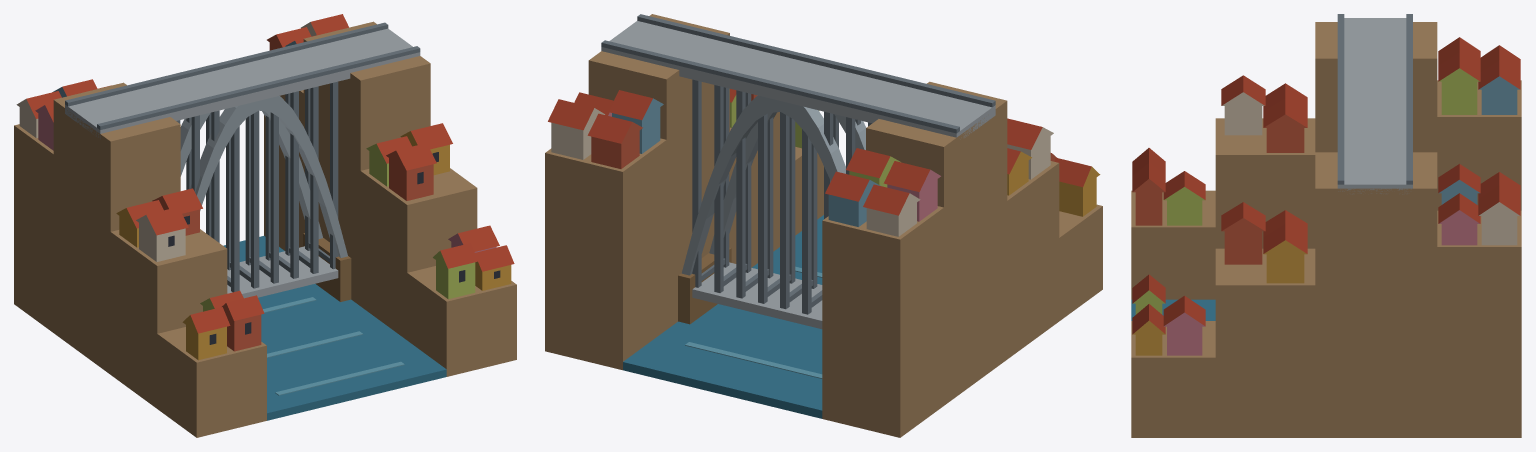
File: pontArche.glb
3 views of the same model, side by side, from view 1: azimuth 30°, elevation 25°; view 2: azimuth 150°, elevation 25°; view 3: azimuth 270°, elevation 25° (orthographic). The views are drawn at different scales.
Parts seen in each view (by area): view 1: pontArche; view 2: pontArche; view 3: pontArche.
Part boxes in pixels (x1,y1,x2,y2): pontArche: (14, 14, 516, 437); pontArche: (545, 14, 1102, 437); pontArche: (1131, 14, 1521, 437).
Size of the model in its own units: 1.78 by 1.28 by 1.76.
